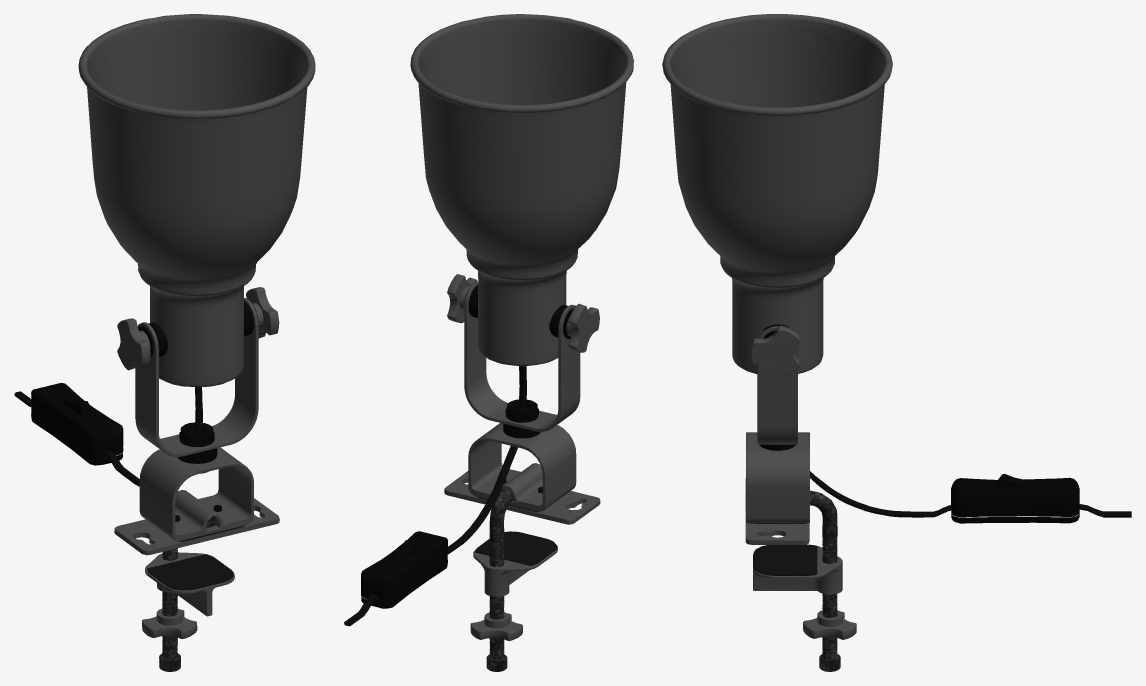
File: HEKTAR Wand-Klemmspot - dunkelgrau (80215308)-mini.glb
The picture shows the model from 3 angles, left to right: view 1: azimuth 30°, elevation 25°; view 2: azimuth 150°, elevation 25°; view 3: azimuth 270°, elevation 25°; orthographic projection. The views are drawn at different scales.
Parts seen in each view (by area): view 1: 80215308; view 2: 80215308; view 3: 80215308.
Part boxes in pixels (bbox=[...]): 80215308: bbox=[14, 14, 315, 671]; 80215308: bbox=[344, 14, 633, 671]; 80215308: bbox=[662, 14, 1131, 671].
Bounding box in the file's own units: 0.1079 × 0.3141 × 0.2202.
Materials: 1 (1 with a texture image).
